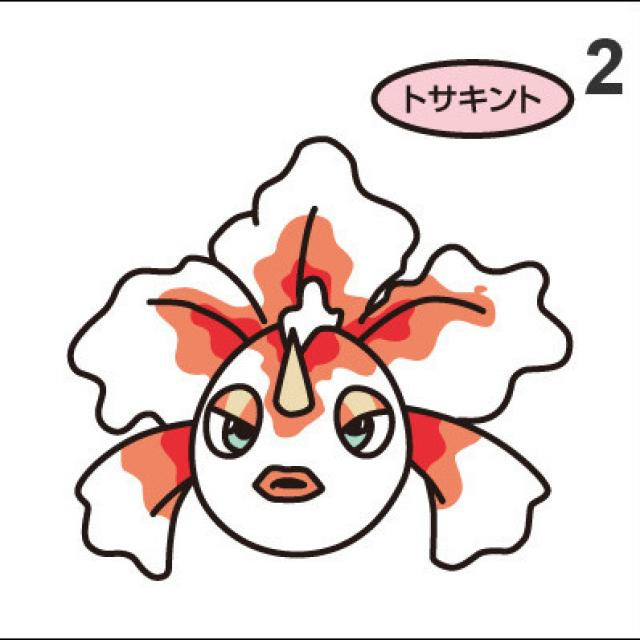Goldeen: (117, 209, 492, 559)
